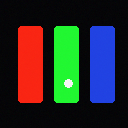0 point: (64, 79, 72, 87)
